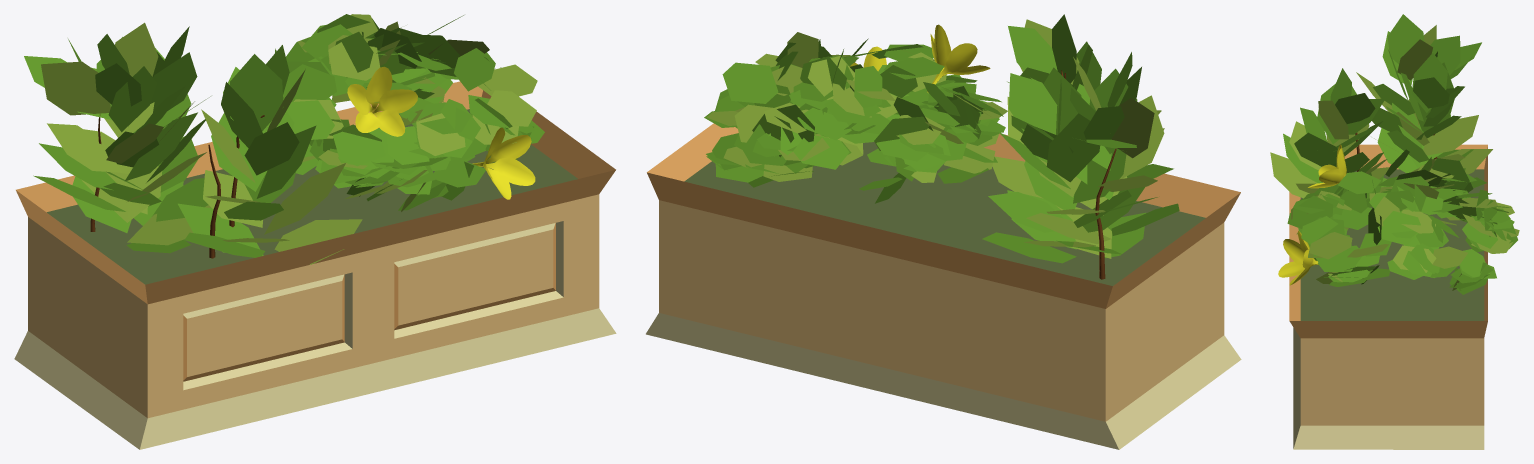
Rendered from WindowBox_Wood_Variety2.fbx.
The picture shows the model from 3 angles, left to right: view 1: azimuth 30°, elevation 25°; view 2: azimuth 150°, elevation 25°; view 3: azimuth 270°, elevation 25°; orthographic projection. The views are drawn at different scales.
Parts seen in each view (by area): view 1: Circle.004; view 2: Circle.004; view 3: Circle.004.
Part boxes in pixels (x1,y1,x2,y2): Circle.004: [14, 14, 616, 449]; Circle.004: [646, 14, 1241, 449]; Circle.004: [1270, 14, 1519, 449].
Size of the model in its own units: 1.46 by 0.9922 by 0.8253.
